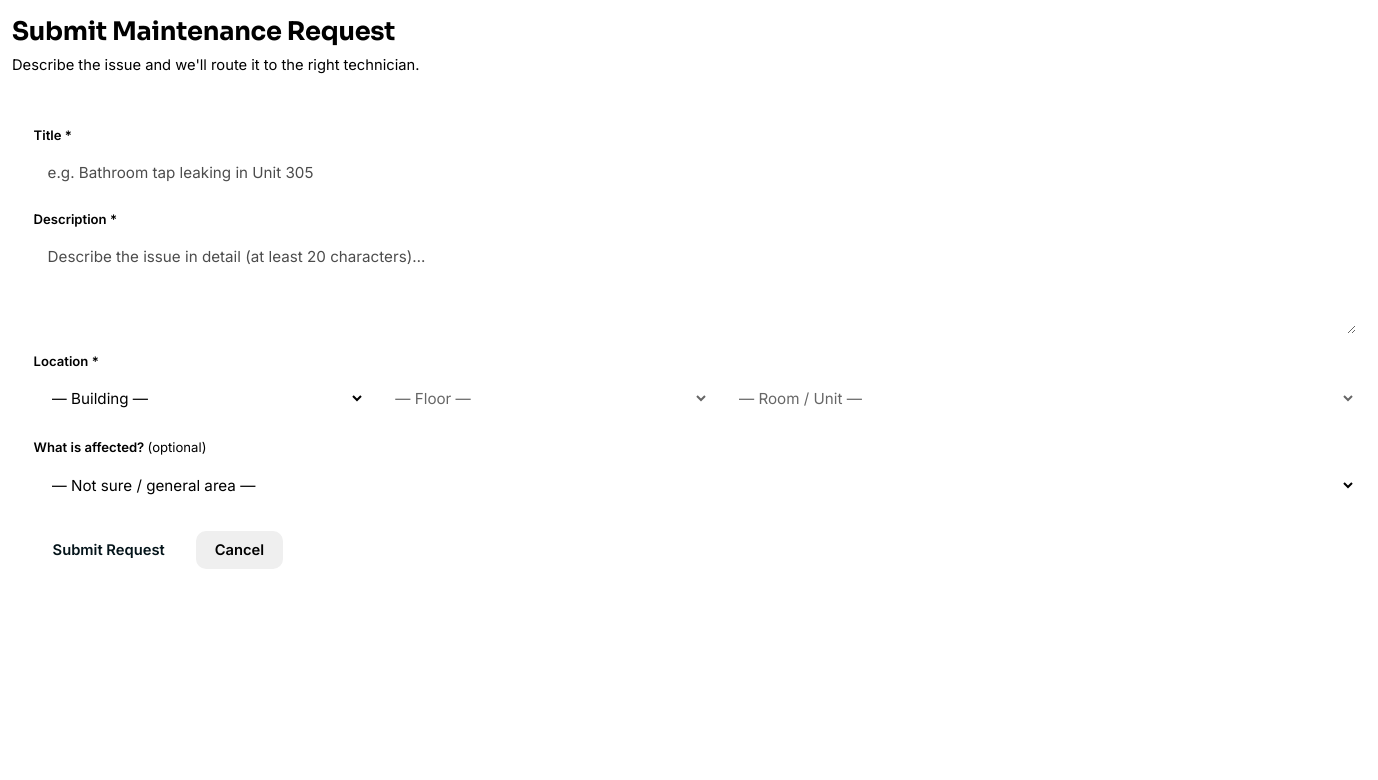
Scenario: SubmitRequestPage — form validation › shows description length error when fewer than 20 characters are entered
// Fill title
Type "Water leak" into the field with placeholder "e.g. Bathroom tap leaking in Unit 305".
click(695, 172); type("Water leak")  # box [34, 152, 1356, 193]
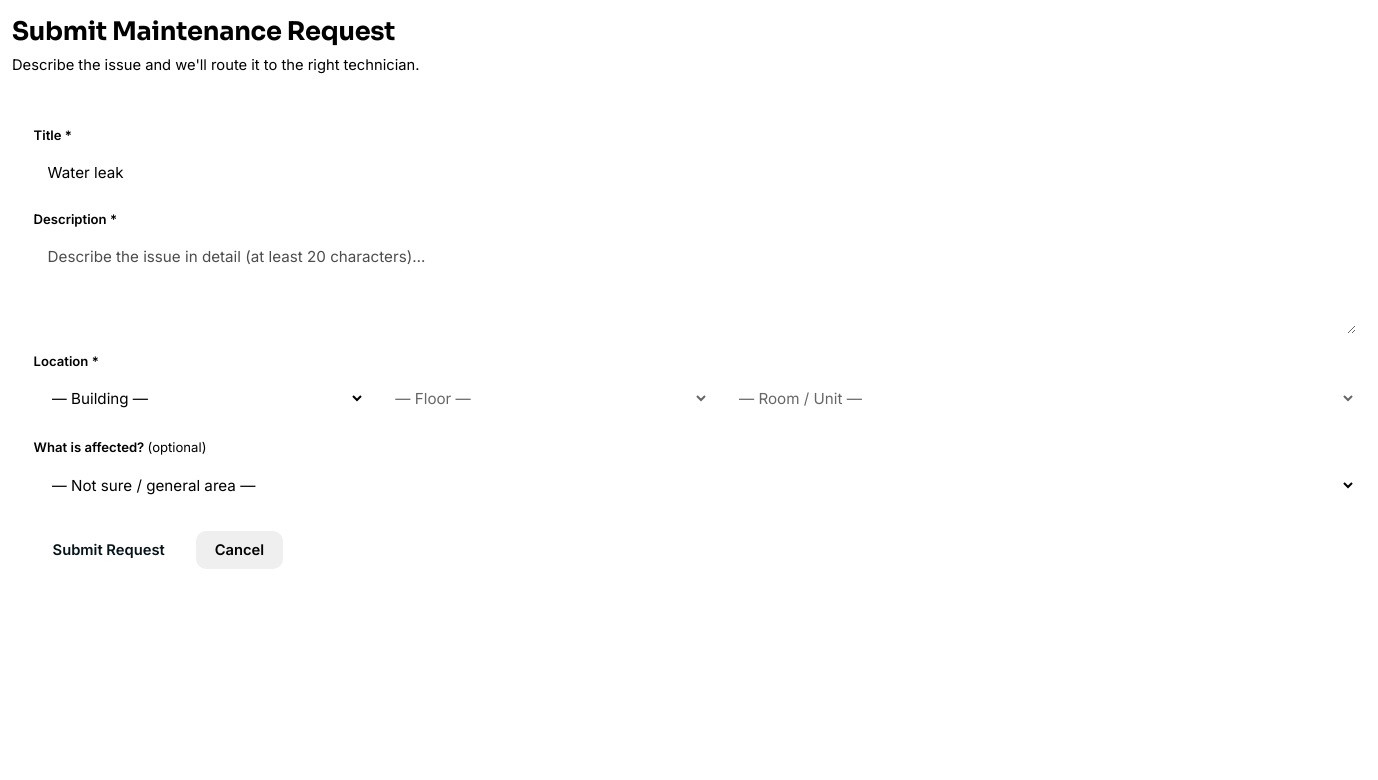
// Fill too-short description
Type "Too short" into the text box with placeholder "Describe the issue in detail (at least 20 characters)…".
click(695, 285); type("Too short")  # box [34, 236, 1356, 334]
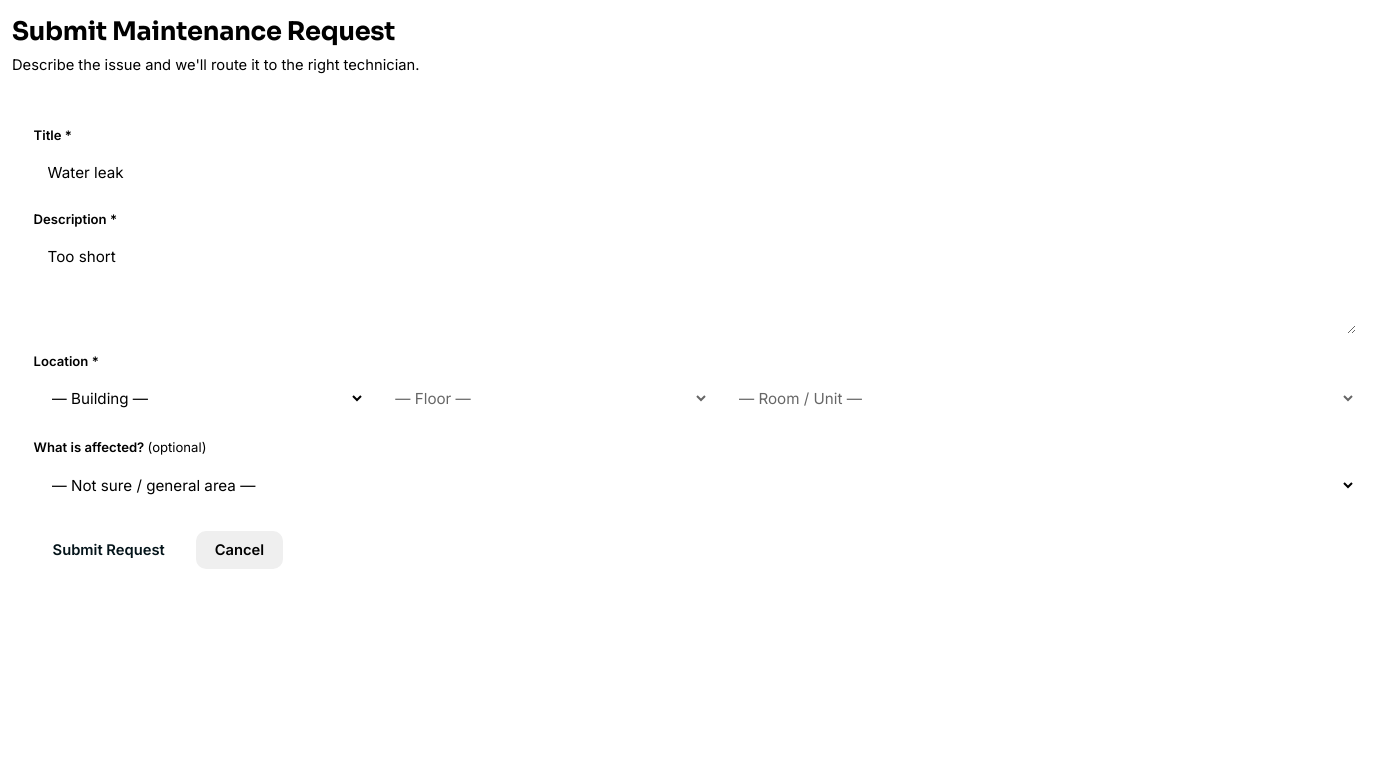
Click the button "Submit Request".
click(109, 550)  # box [34, 531, 184, 569]
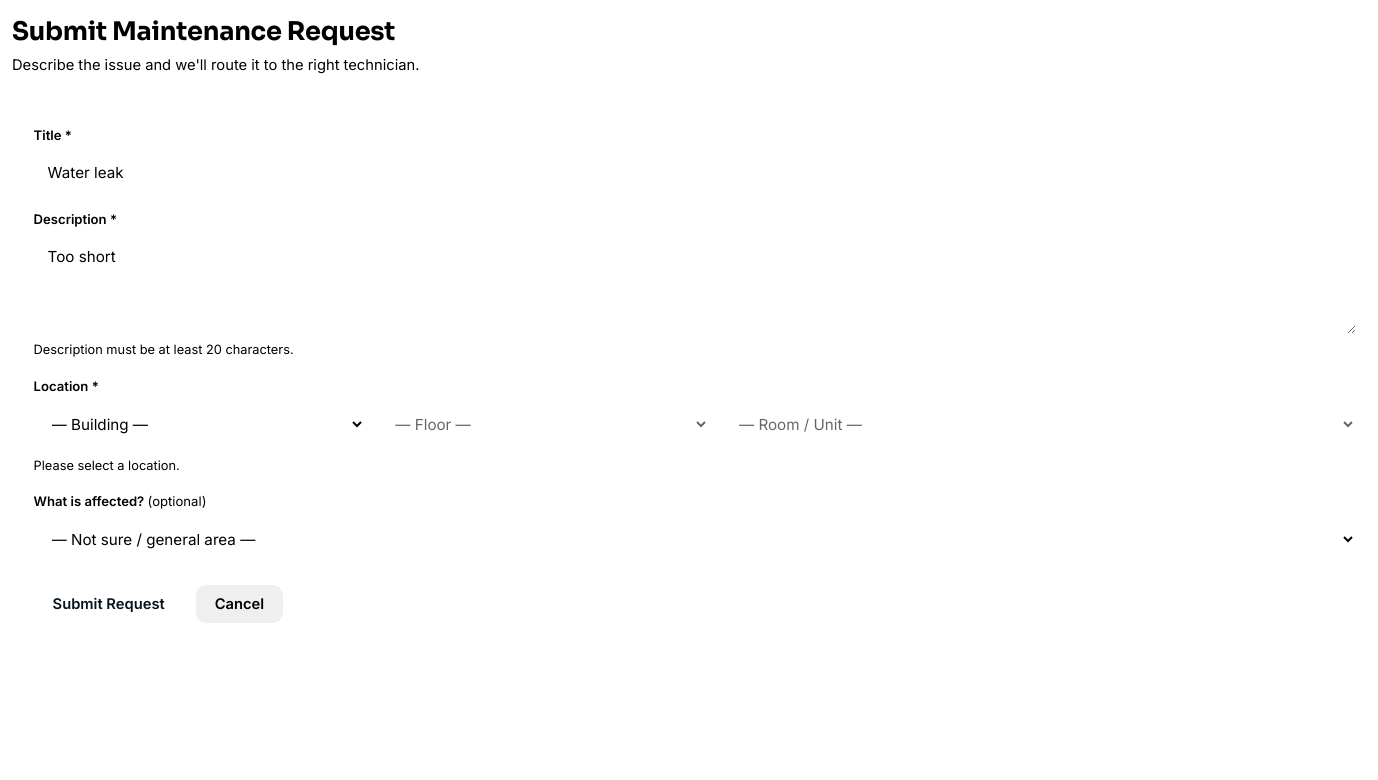
Expected: the text "Description must be at least 20 characters." is shown, [34, 342, 294, 357]
